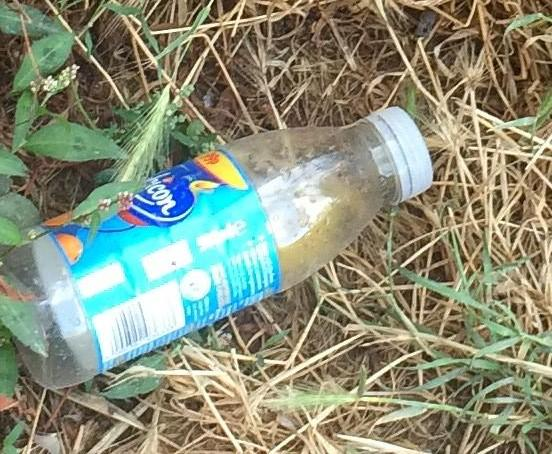Plastic: (0, 93, 442, 403)
